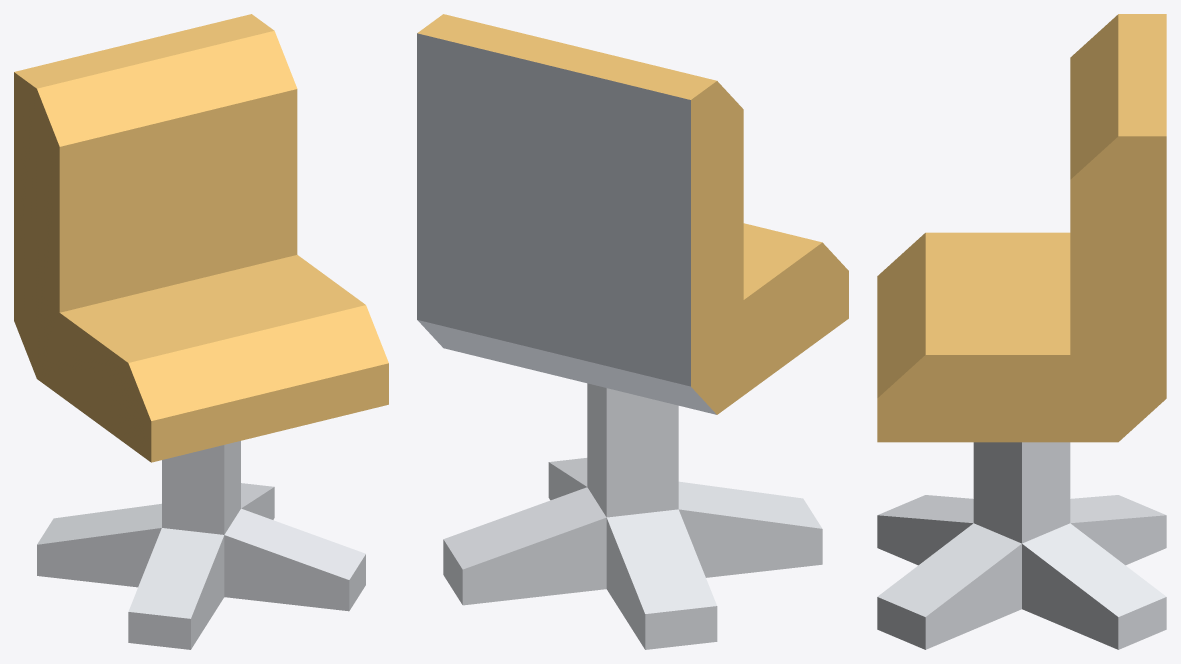
The model's file is desk_chair.glb.
The picture shows the model from 3 angles, left to right: view 1: azimuth 30°, elevation 25°; view 2: azimuth 150°, elevation 25°; view 3: azimuth 270°, elevation 25°; orthographic projection. The views are drawn at different scales.
Parts seen in each view (by area): view 1: desk_chair; view 2: desk_chair; view 3: desk_chair.
Part boxes in pixels (x1=…): desk_chair: x1=14, y1=14, x2=388, y2=649; desk_chair: x1=417, y1=14, x2=848, y2=649; desk_chair: x1=877, y1=14, x2=1166, y2=649.
Bounding box in the file's own units: 0.15 × 0.2937 × 0.15.
